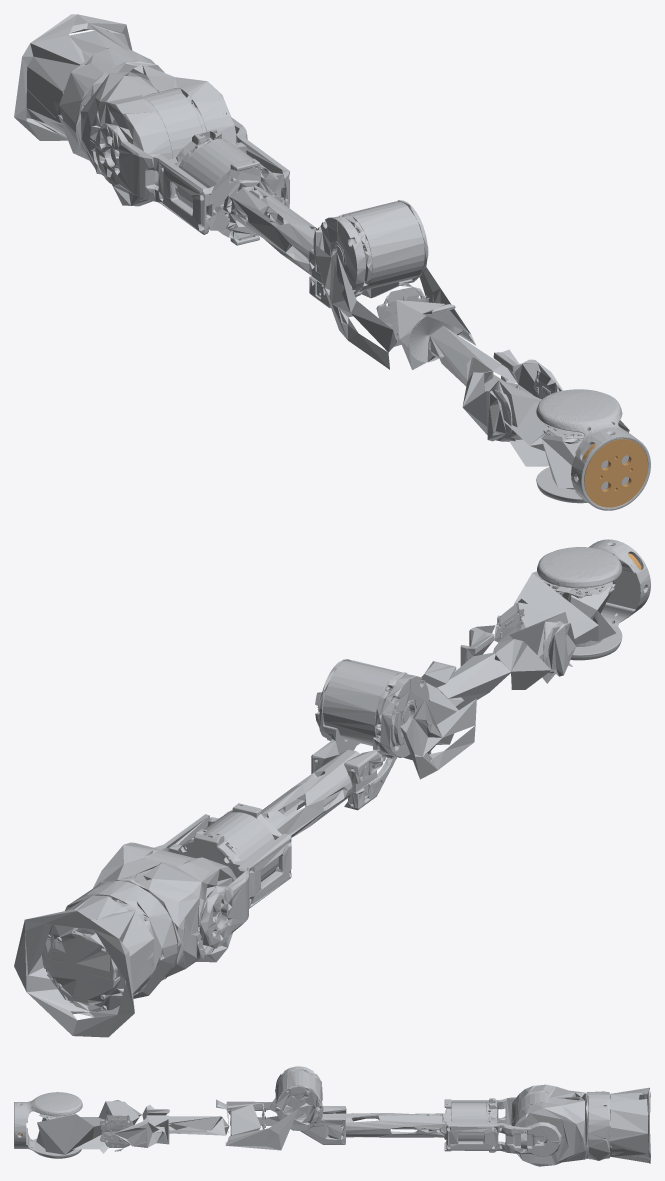
The model's file is litearm.glb.
The picture shows the model from 3 angles, top to bottom: view 1: azimuth 30°, elevation 25°; view 2: azimuth 150°, elevation 25°; view 3: azimuth 270°, elevation 25°; orthographic projection. The views are drawn at different scales.
Parts seen in each view (by area): view 1: joint3_vis, joint2_vis, joint1_vis, base_link_vis, joint4_vis, joint5_vis, joint7_vis, ee_link_vis, joint6_vis; view 2: base_link_vis, joint3_vis, joint2_vis, joint5_vis, joint1_vis, joint7_vis, joint4_vis, joint6_vis; view 3: joint3_vis, joint2_vis, base_link_vis, joint1_vis, joint5_vis, joint4_vis, joint6_vis, joint7_vis.
Part boxes in pixels (x1,y1,x2,y2): joint3_vis: (221, 180, 428, 308); joint2_vis: (95, 117, 289, 245); joint1_vis: (76, 61, 236, 206); base_link_vis: (14, 14, 155, 160); joint4_vis: (315, 245, 475, 369); joint5_vis: (427, 326, 562, 441); joint7_vis: (536, 389, 650, 510); ee_link_vis: (582, 439, 647, 507); joint6_vis: (504, 402, 629, 487); base_link_vis: (14, 880, 177, 1037); joint3_vis: (260, 659, 429, 837); joint2_vis: (154, 803, 291, 948); joint5_vis: (437, 598, 576, 709); joint1_vis: (93, 842, 236, 980); joint7_vis: (537, 539, 650, 660); joint4_vis: (357, 661, 476, 779); joint6_vis: (514, 571, 615, 666); joint3_vis: (275, 1066, 451, 1144); joint2_vis: (442, 1097, 561, 1157); base_link_vis: (588, 1087, 650, 1163); joint1_vis: (511, 1084, 588, 1166); joint5_vis: (98, 1100, 229, 1151); joint4_vis: (216, 1098, 308, 1150); joint6_vis: (36, 1113, 108, 1154); joint7_vis: (14, 1092, 82, 1158).
Bounding box in the file's own units: 0.1017 × 0.1178 × 0.7835.
